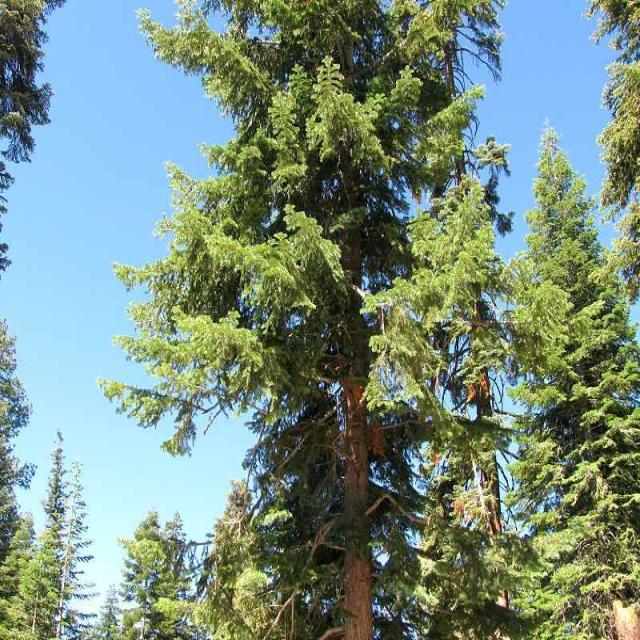Abies: (101, 0, 505, 636), (522, 114, 634, 576)
